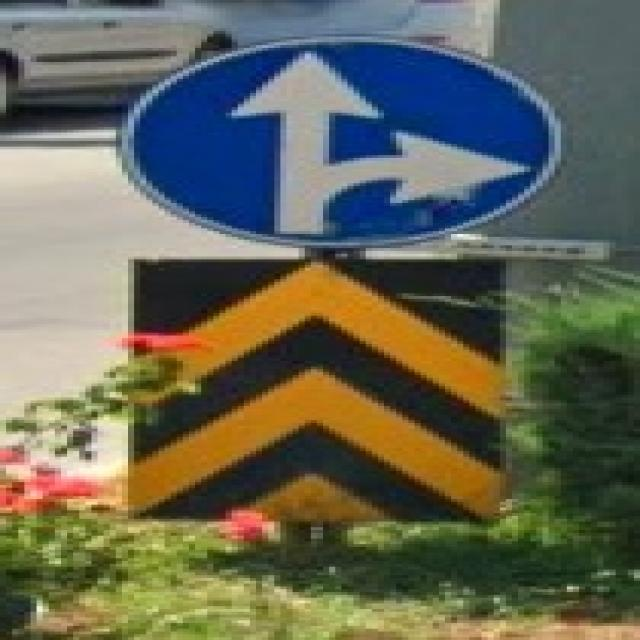Straight or Right: (111, 39, 550, 248)
